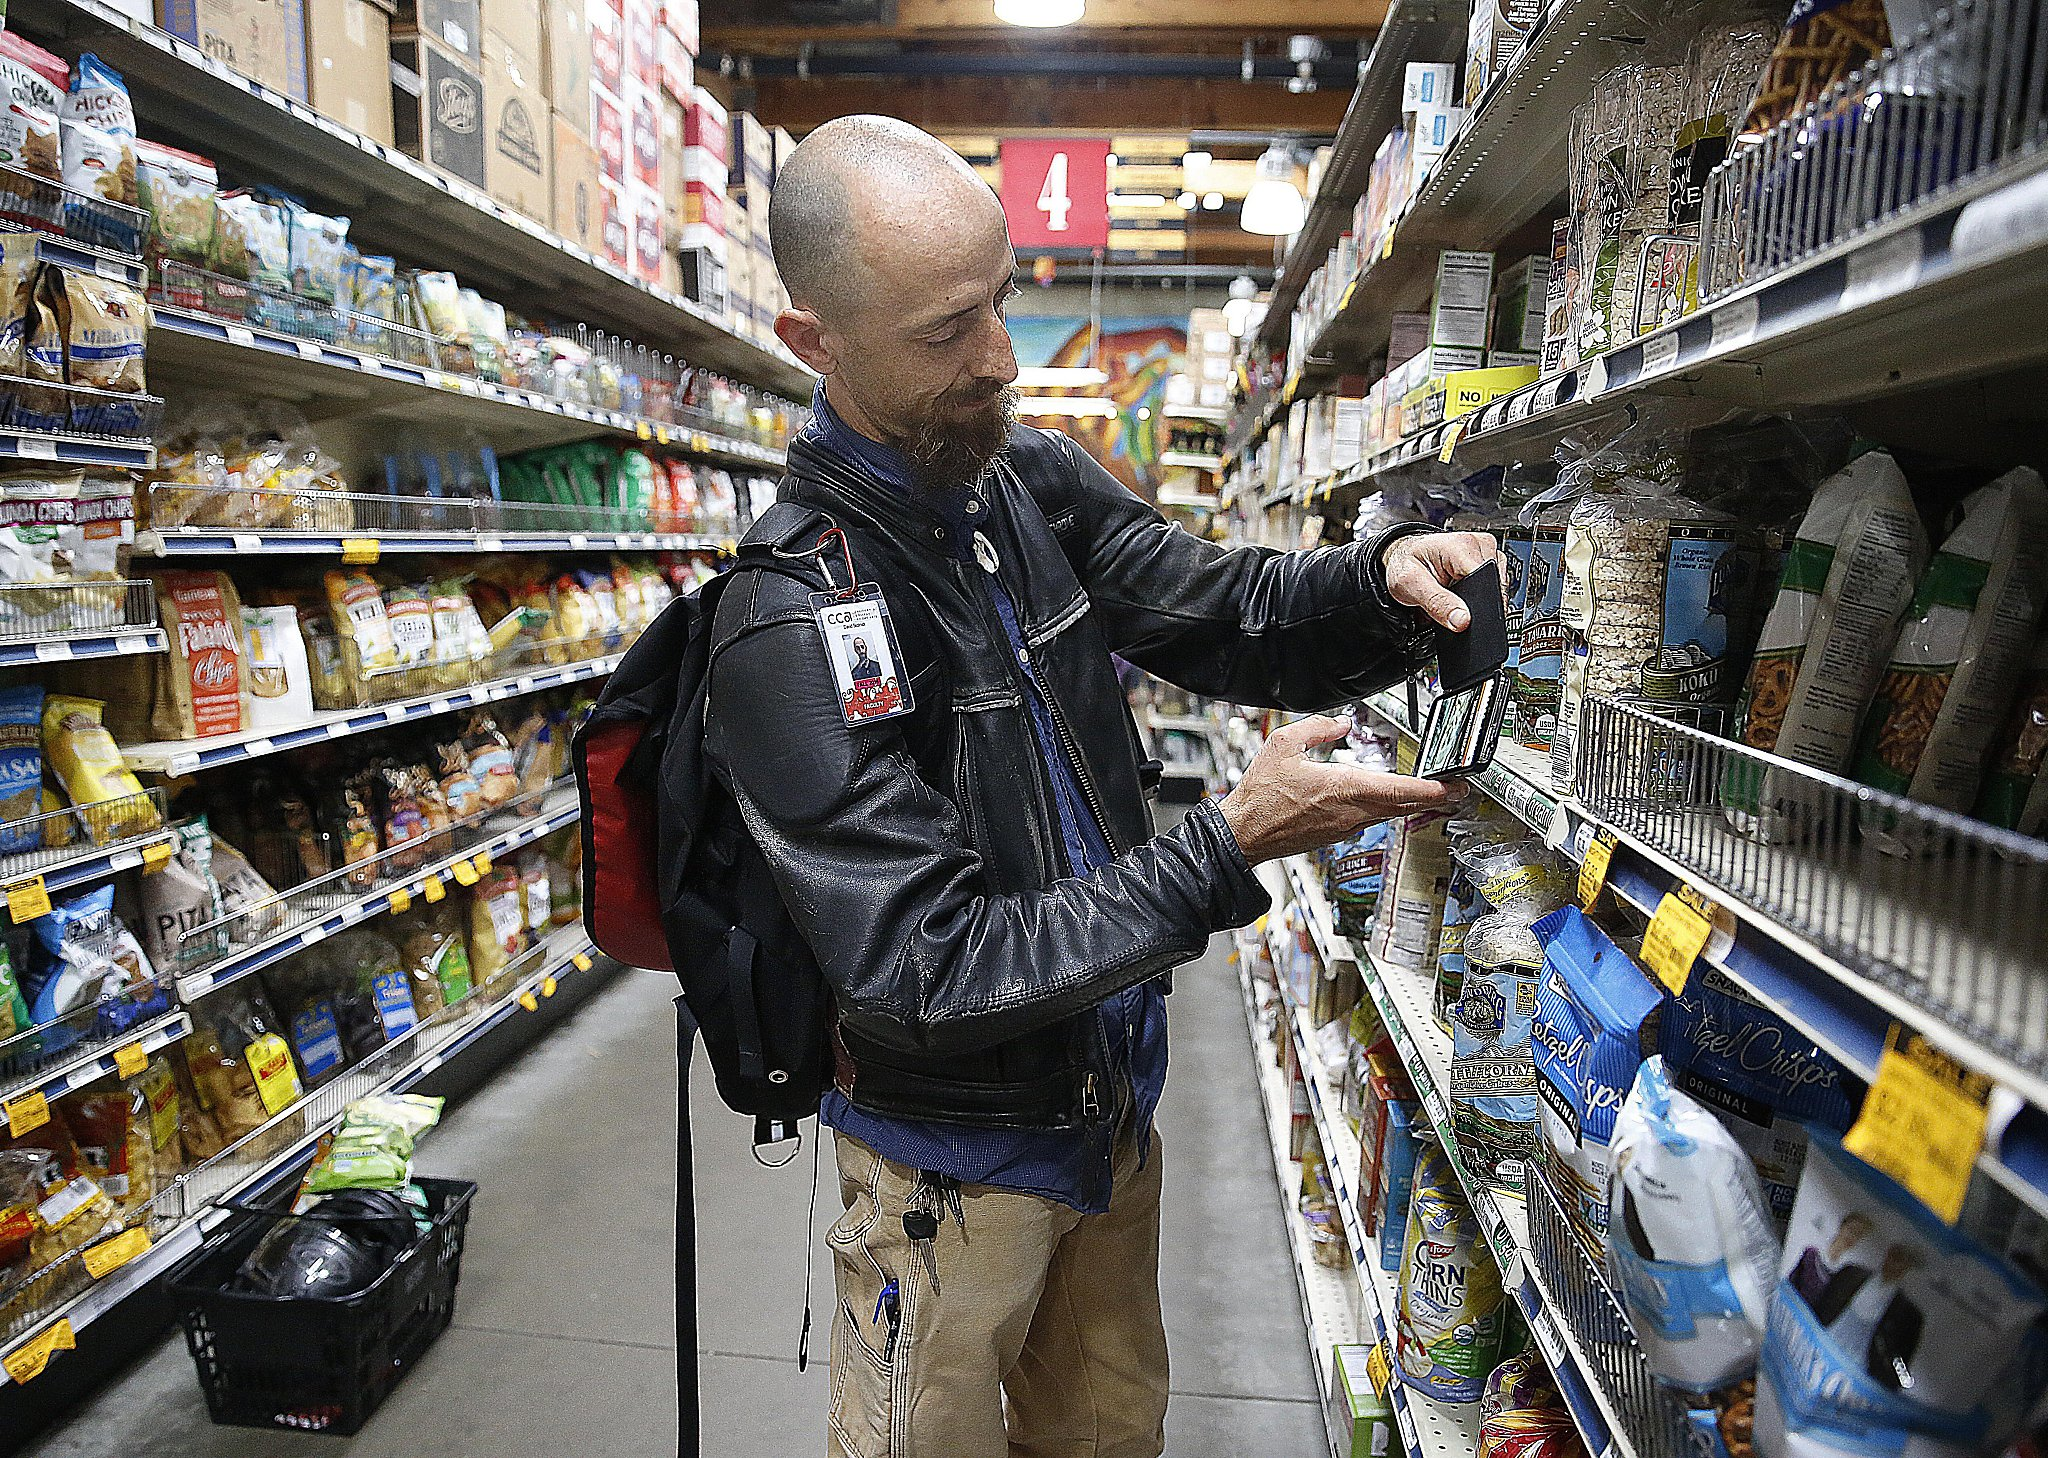Age_30_40: (758, 135, 1057, 457)
E_White: (758, 135, 1057, 457)
Emotion_Neutral: (758, 135, 1057, 457)
G_Male: (758, 135, 1057, 457)
